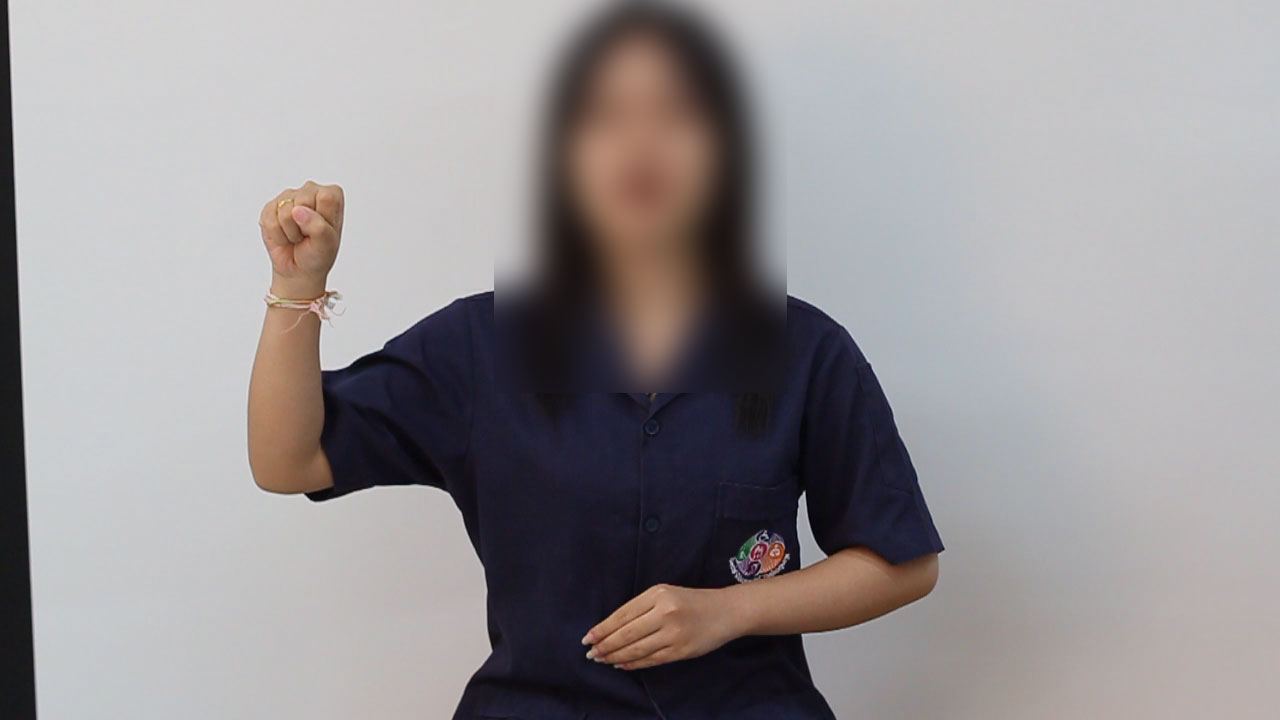sor: (240, 164, 361, 319)
